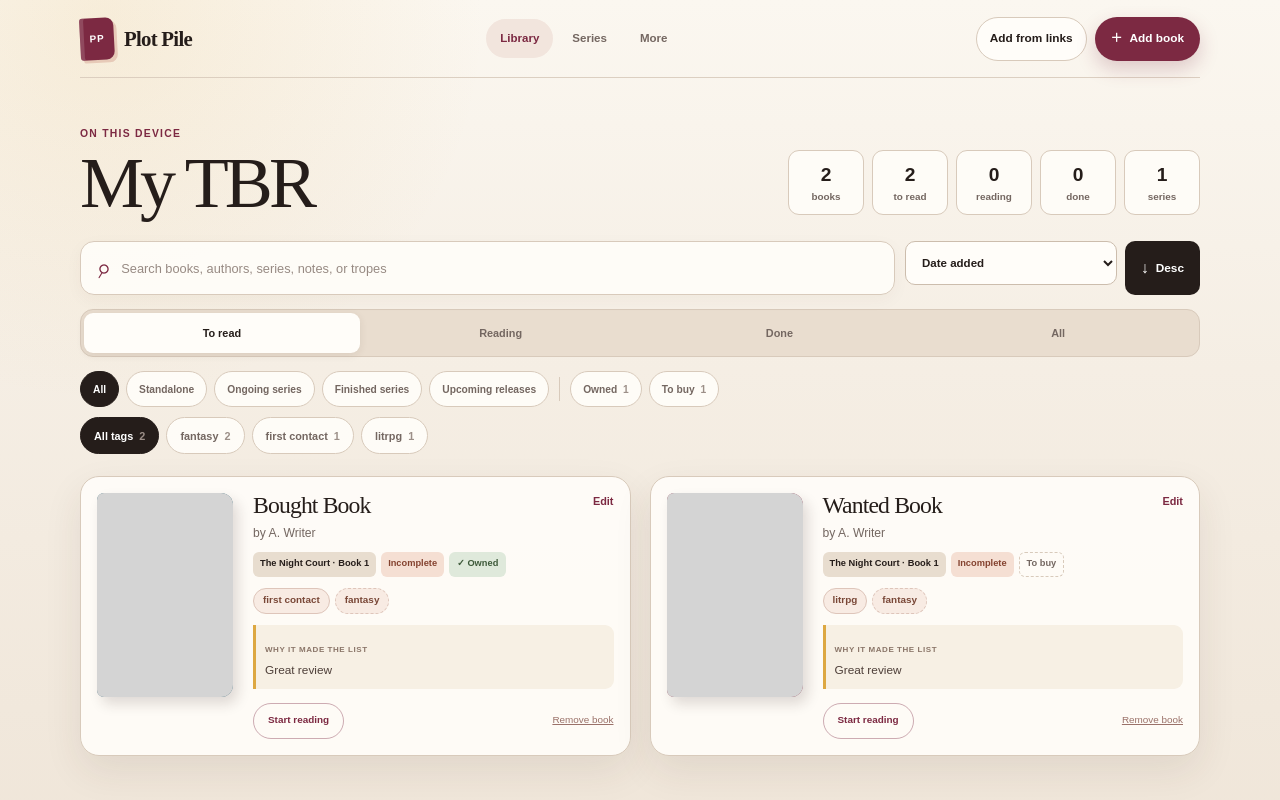
Test: Plot Pile behavior › drops a tag the other filters have emptied instead of holding the grid shut
expect the heading "Bought Book" is shown: met, box [253,493,371,518]
Click the button "first contact 1" at (303, 436), box [252,417,354,454]
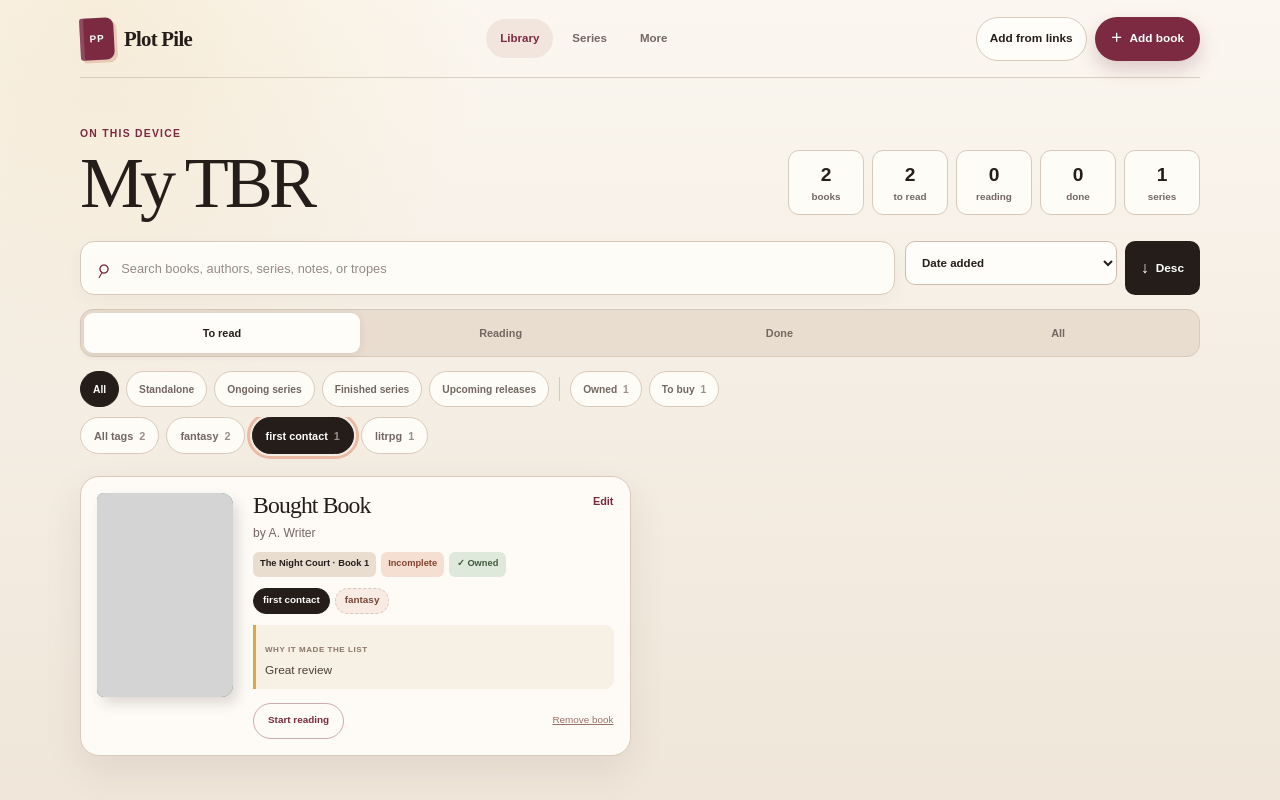
expect the heading "Wanted Book" is gone: met
Click the button "To buy 1" at (684, 389), box [649,371,719,407]
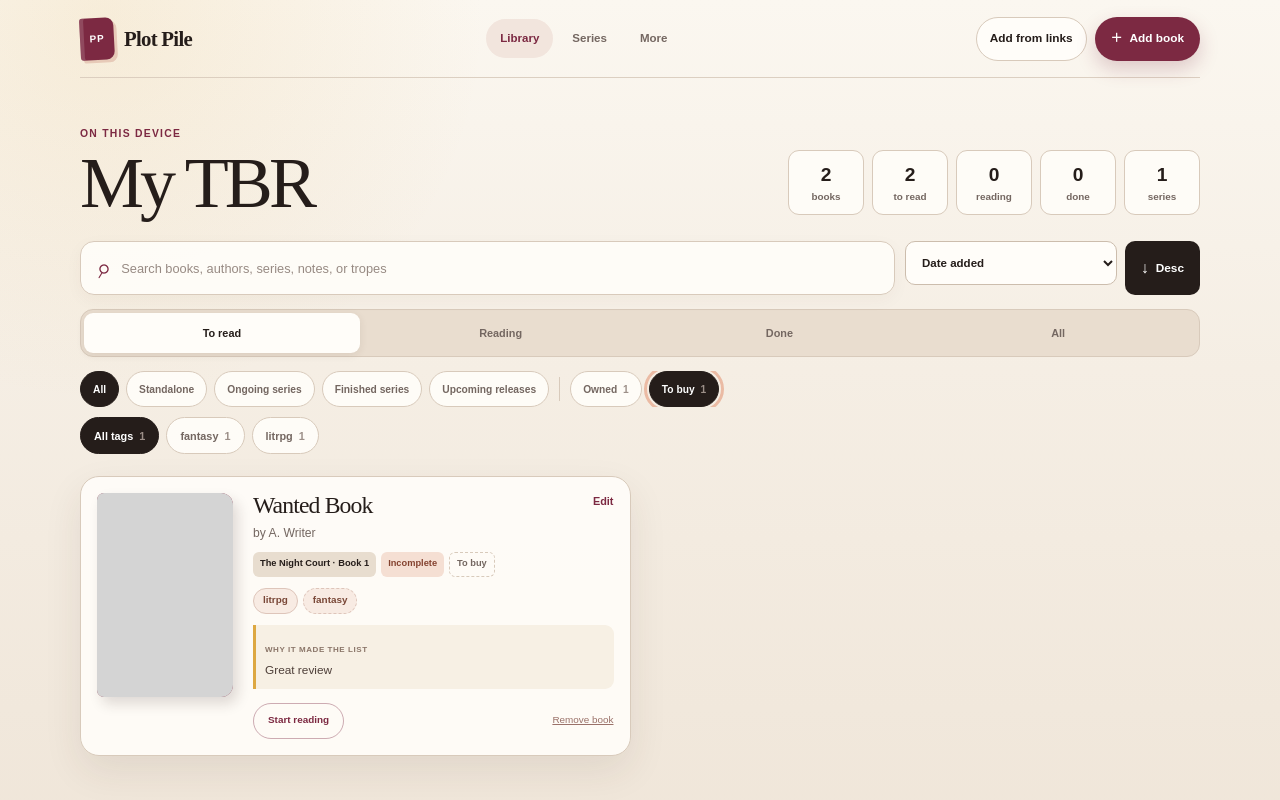
expect the heading "Wanted Book" is shown: met, box [253,493,372,518]
expect the button "first contact" is gone: met
